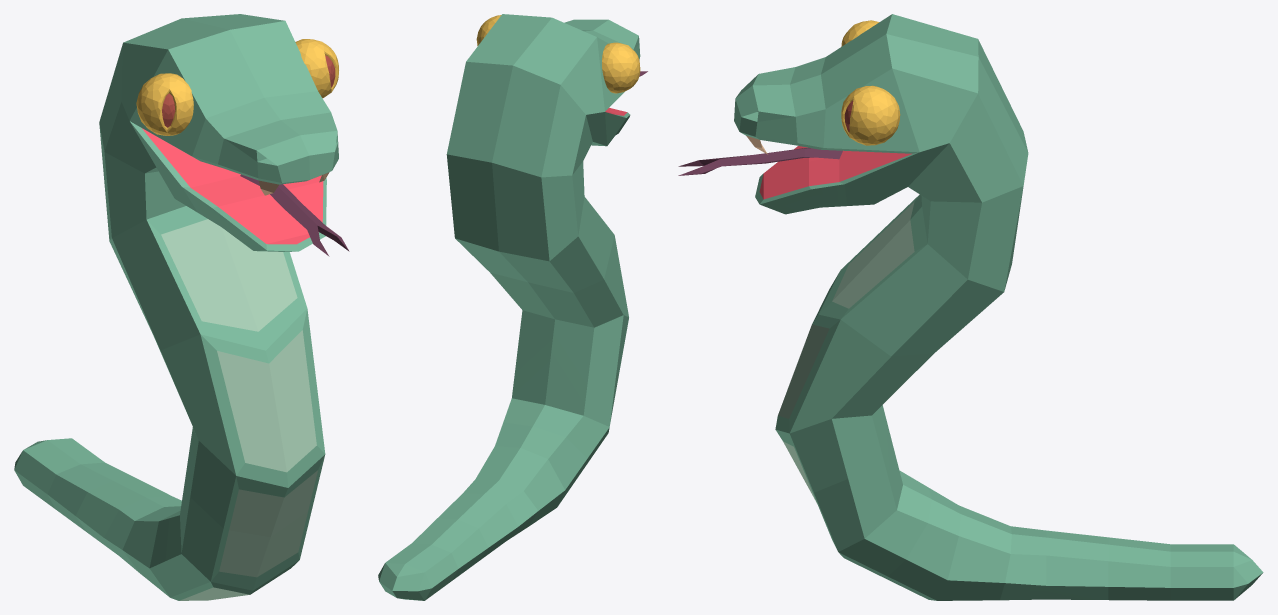
Rendered from E_Snake.glb.
3 views of the same model, side by side, from view 1: azimuth 30°, elevation 25°; view 2: azimuth 150°, elevation 25°; view 3: azimuth 270°, elevation 25° (orthographic). The views are drawn at different scales.
Visible parts, largest first — view 1: SK_Snake; view 2: SK_Snake; view 3: SK_Snake.
Boxes of the visible parts, box(x1,y1,x2,y2) form: SK_Snake: box(14, 14, 349, 600); SK_Snake: box(378, 14, 647, 600); SK_Snake: box(678, 14, 1263, 600).
Bounding box in the file's own units: 1.05 × 3.04 × 2.88.
